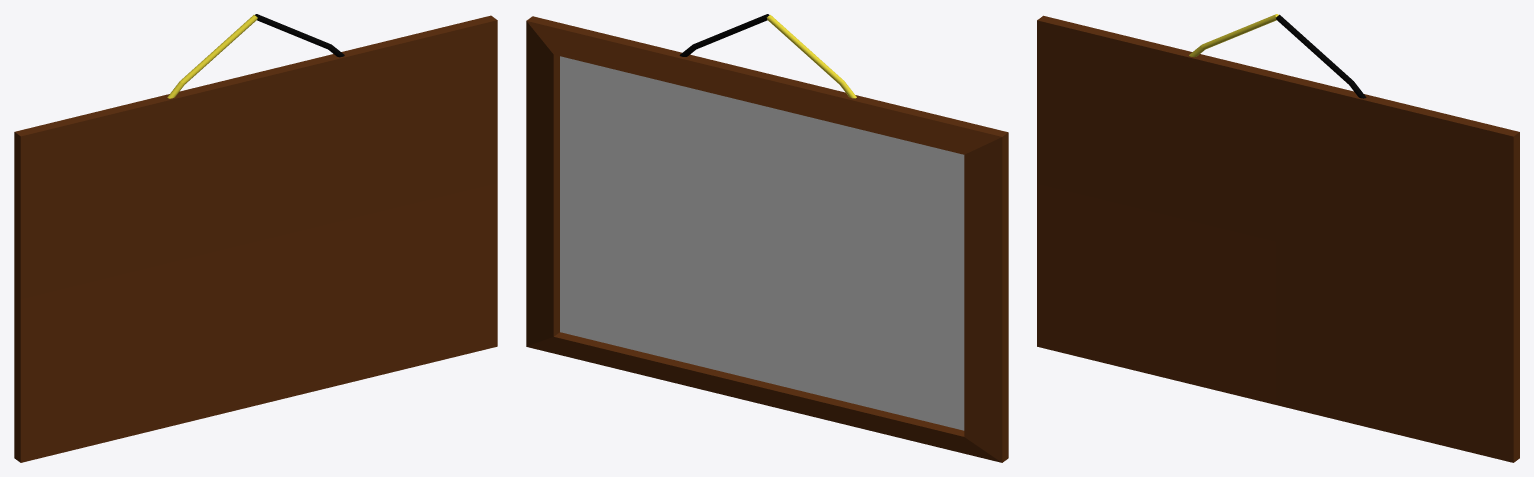
Rendered from square.fbx.
3 renders of one model, left to right at view 1: azimuth 30°, elevation 25°; view 2: azimuth 150°, elevation 25°; view 3: azimuth 330°, elevation 25°, orthographic.
Visible parts, largest first — view 1: Cylinder.002; view 2: Cylinder.002; view 3: Cylinder.002.
Part boxes in pixels (x1,y1,x2,y2): Cylinder.002: (14,14,497,462); Cylinder.002: (526,14,1008,462); Cylinder.002: (1037,14,1519,462).
Bounding box in the file's own units: 142 × 111 × 6.02.
